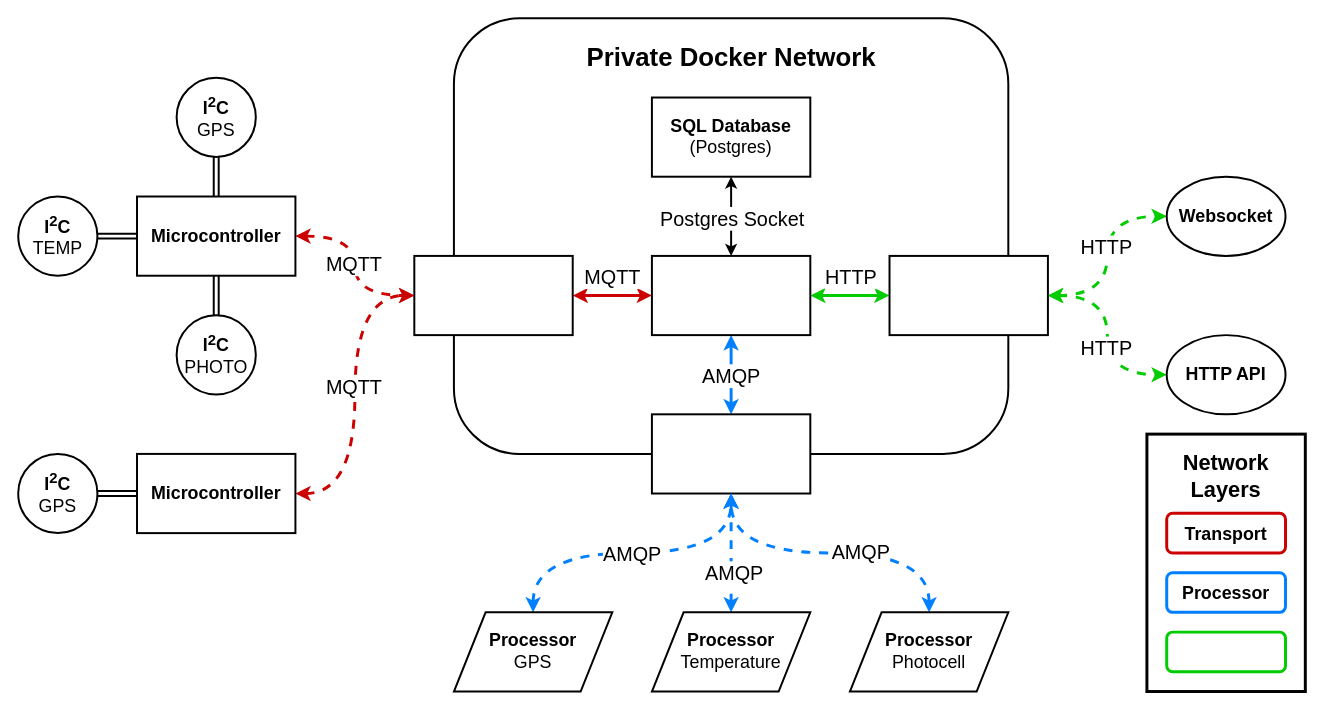
Some shapes in this 1324 by 710 pixel diagram are drawn without their labels. The centre of each missing label's shape, as x and y in pixels:
"AMQP Broker (RabbitMQ)" goes at point 730,453.
"Application" goes at point 1226,651.
"Controller (event engine, HTTP API)" goes at point 730,295.
"MQTT Broker (VerneMQ)" goes at point 493,295.
"Web Server (Caddy)" goes at point 968,295.
